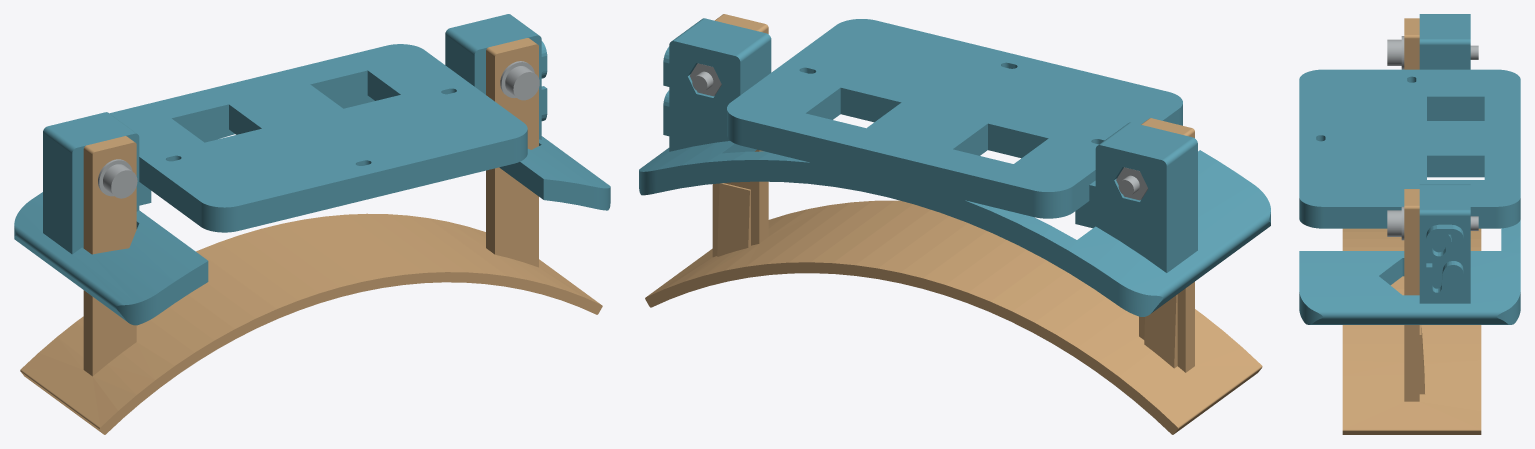
The model's file is R13_ASSIEME_FERRAMENTA_SCHEMATICA.glb.
3 renders of one model, left to right at view 1: azimuth 30°, elevation 25°; view 2: azimuth 150°, elevation 25°; view 3: azimuth 270°, elevation 25°, orthographic. The views are drawn at different scales.
Visible parts, largest first — view 1: base_appoggi, ponte_centrato, vite_M3x16_2, vite_M3x16_1; view 2: base_appoggi, ponte_centrato; view 3: base_appoggi, ponte_centrato, vite_M3x16_2, vite_M3x16_1.
Boxes of the visible parts, <box> form: base_appoggi: <box>14,14,610,325</box>; ponte_centrato: <box>20,38,602,434</box>; vite_M3x16_2: <box>505,66,539,100</box>; vite_M3x16_1: <box>103,164,137,198</box>; base_appoggi: <box>639,18,1270,316</box>; ponte_centrato: <box>645,14,1262,434</box>; base_appoggi: <box>1299,14,1520,324</box>; ponte_centrato: <box>1342,18,1481,434</box>; vite_M3x16_2: <box>1387,210,1478,236</box>; vite_M3x16_1: <box>1387,39,1478,65</box>.
Bounding box in the file's own units: 0.105 × 0.05 × 0.046.
